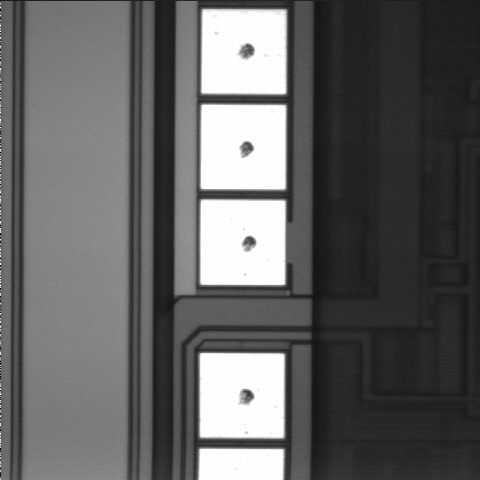pad: (200, 200, 285, 285), (202, 9, 286, 94), (201, 105, 286, 189), (200, 353, 284, 438)
